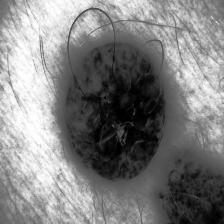Benign Marking or Mole: (51, 5, 224, 224)
